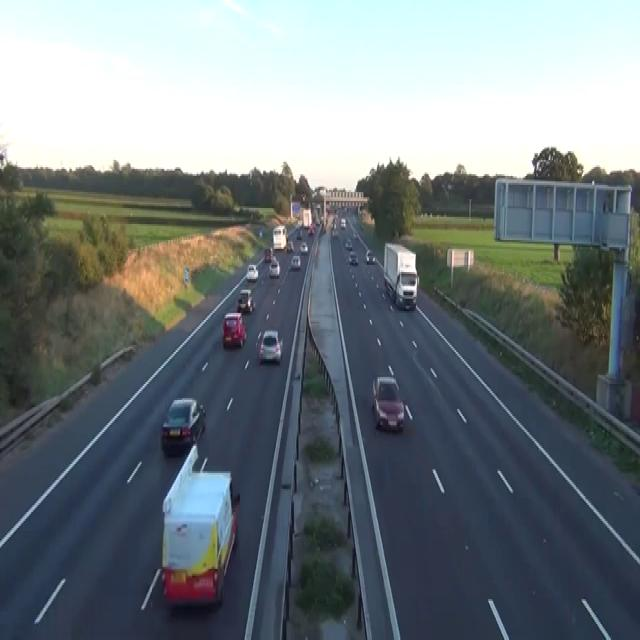Car: (161, 397, 206, 455), (372, 375, 404, 432), (256, 329, 283, 364), (222, 311, 246, 349), (236, 288, 255, 313), (268, 256, 280, 277), (245, 263, 258, 281), (290, 254, 301, 268), (365, 249, 375, 263), (348, 251, 358, 265), (264, 247, 272, 261), (0, 146, 6, 162), (299, 242, 308, 252), (286, 240, 293, 252), (345, 238, 352, 249), (307, 224, 314, 235), (331, 226, 338, 236), (340, 217, 346, 227), (296, 230, 302, 238), (321, 224, 326, 233), (332, 220, 336, 230), (319, 215, 323, 224), (258, 228, 262, 236), (360, 222, 363, 230), (353, 231, 356, 238)
Truck: (160, 443, 240, 608), (383, 242, 419, 309), (272, 224, 286, 251), (302, 208, 312, 228), (290, 201, 301, 219)
